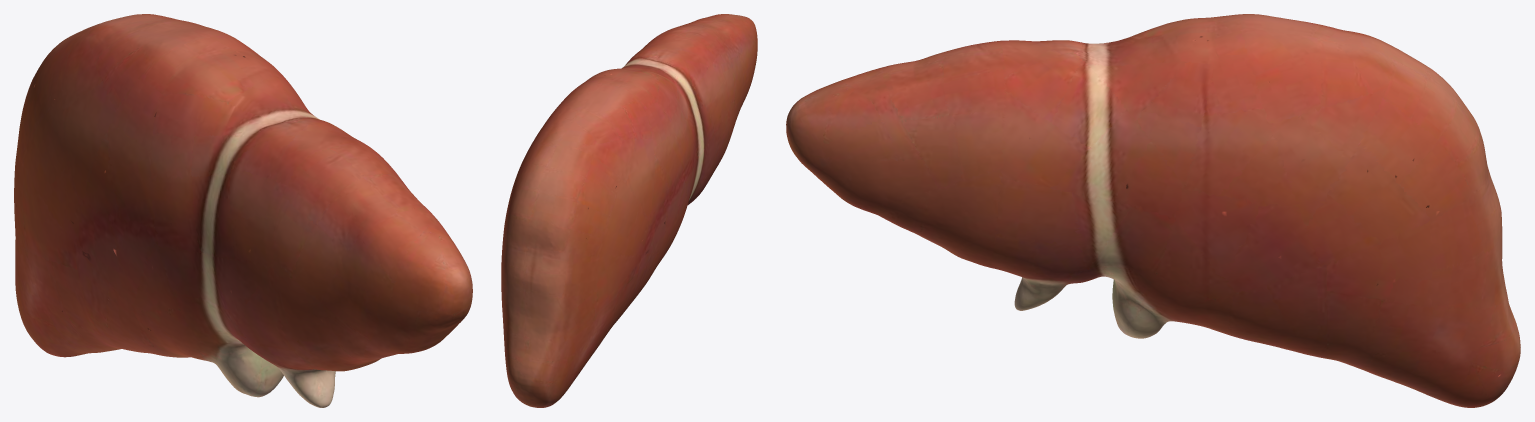
Rendered from Liver.glb.
3 views of the same model, side by side, from view 1: azimuth 30°, elevation 25°; view 2: azimuth 150°, elevation 25°; view 3: azimuth 270°, elevation 25° (orthographic). The views are drawn at different scales.
Visible parts, largest first — view 1: Liver; view 2: Liver; view 3: Liver.
Boxes of the visible parts, left/top/right/bottom form: Liver: left=14, top=14, right=472, bottom=407; Liver: left=501, top=14, right=757, bottom=407; Liver: left=786, top=14, right=1520, bottom=407.
Size of the model in its own units: 0.5371 by 1.16 by 2.
Materials: 1 (1 with a texture image).
